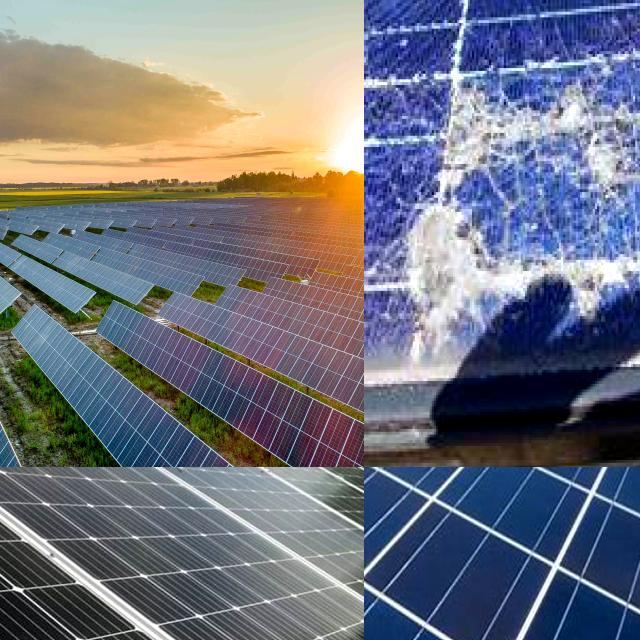crack: (0, 467, 364, 640), (364, 467, 640, 640)
hotspot: (402, 208, 640, 367), (431, 58, 640, 206)
